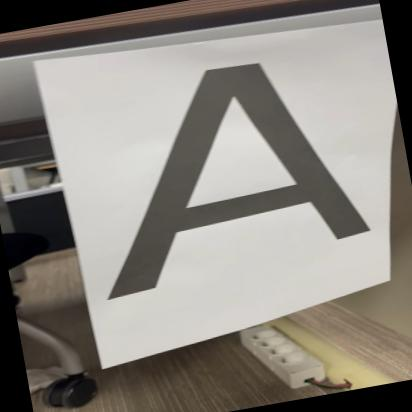seat: (57, 33, 385, 302)
